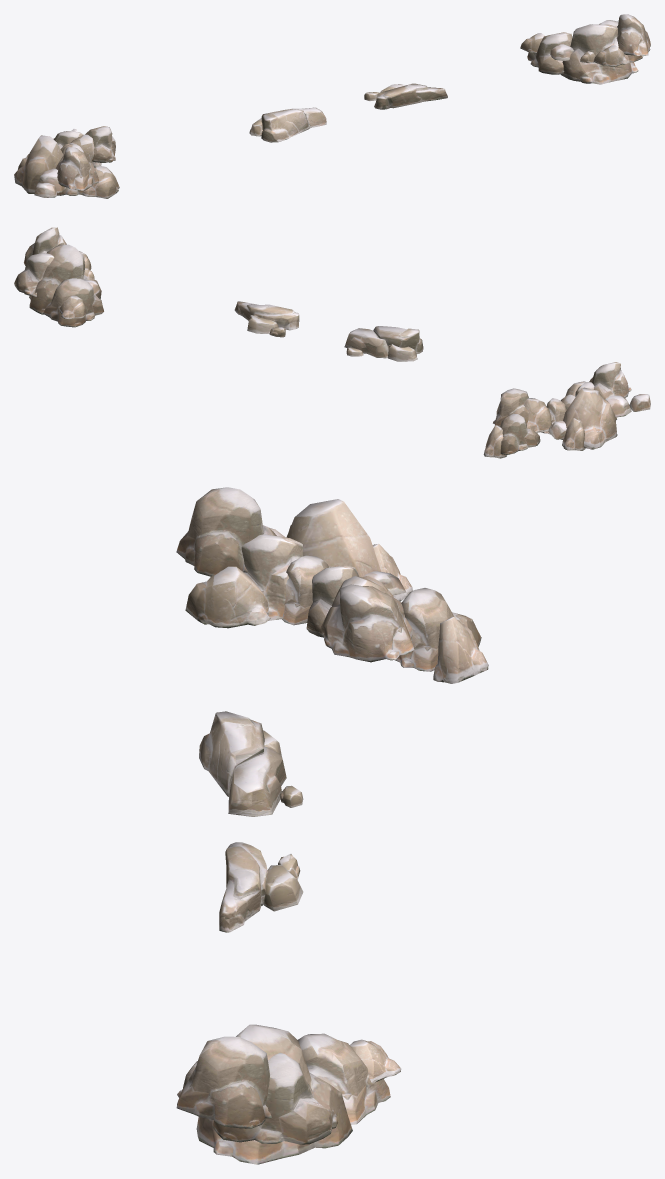
File: pref_sm_beach_bk_winter_pointmol_rock_D01_lv2.fbx
The picture shows the model from 3 angles, top to bottom: view 1: azimuth 30°, elevation 25°; view 2: azimuth 150°, elevation 25°; view 3: azimuth 270°, elevation 25°; orthographic projection. The views are drawn at different scales.
Parts seen in each view (by area): view 1: pref_sm_beach_bk_winter_pointmol_rock_D01_lv2; view 2: pref_sm_beach_bk_winter_pointmol_rock_D01_lv2; view 3: pref_sm_beach_bk_winter_pointmol_rock_D01_lv2.
Boxes of the visible parts, <box> form: pref_sm_beach_bk_winter_pointmol_rock_D01_lv2: <box>14,14,650,198</box>; pref_sm_beach_bk_winter_pointmol_rock_D01_lv2: <box>14,227,650,458</box>; pref_sm_beach_bk_winter_pointmol_rock_D01_lv2: <box>176,487,488,1164</box>.
Bounding box in the file's own units: 53.18 × 5.35 × 11.67.
